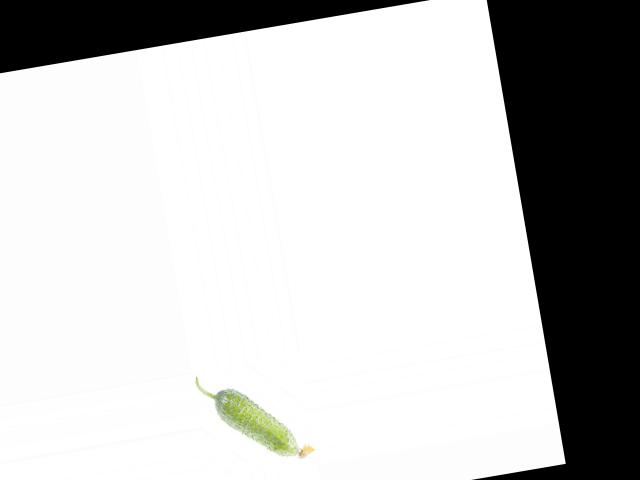cucumber: (195, 359, 316, 473)
